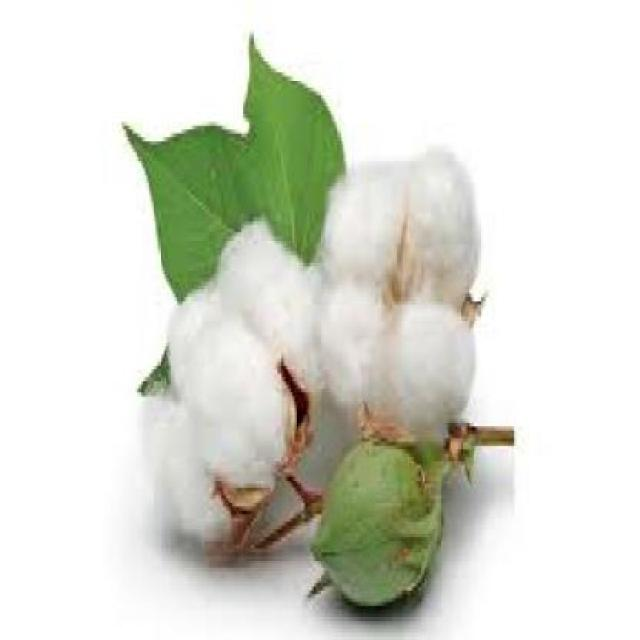cotton_ready: (94, 198, 309, 594), (290, 133, 499, 476)
